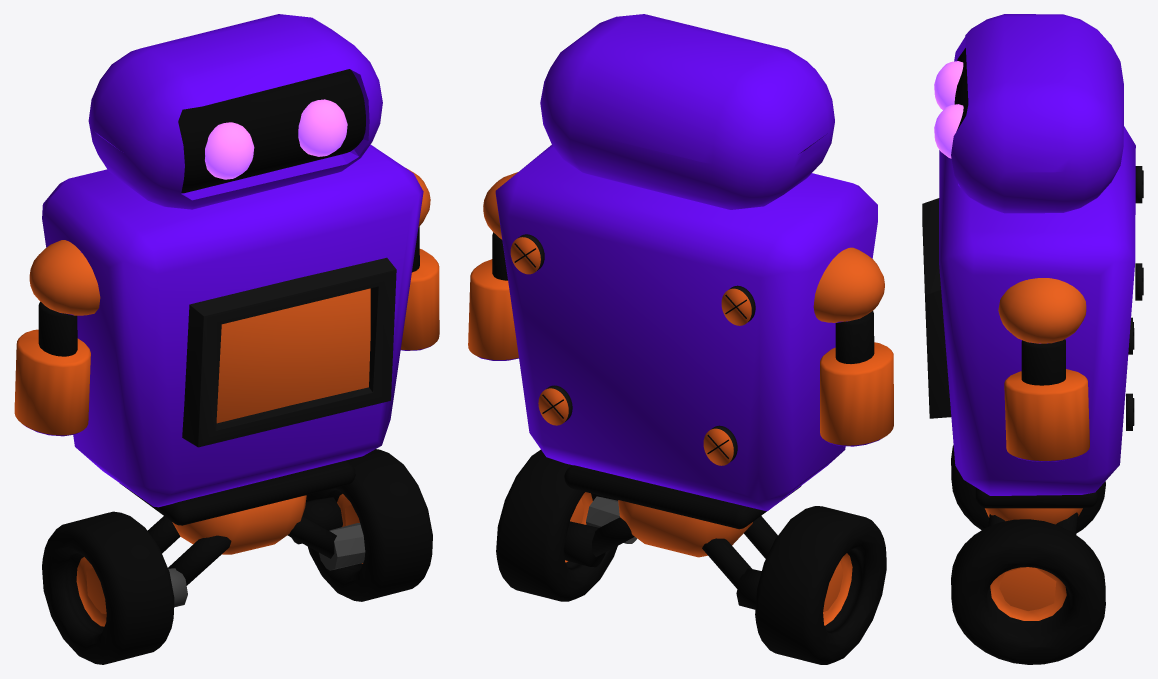
Rendered from robot1.fbx.
The picture shows the model from 3 angles, left to right: view 1: azimuth 30°, elevation 25°; view 2: azimuth 150°, elevation 25°; view 3: azimuth 270°, elevation 25°; orthographic projection. The views are drawn at different scales.
Visible parts, largest first — view 1: Cube, Cube.006, Cube.003, Cylinder.010, Cylinder.002, Cylinder.003, Cylinder, Cube.002, Cube.005, Cylinder.007, Sphere.001, Sphere.002 (+2 smaller); view 2: Cube, Cube.003, Cylinder.002, Cylinder.010, Cylinder.003, Cube.002, Cube.005, Cylinder.007, Cylinder.005, Cylinder.011, Cylinder.012, Cylinder.009 (+3 smaller); view 3: Cube, Cube.003, Cylinder.003, Cylinder.002, Cube.006, Cube.002, Cylinder.010, Cube.005, Sphere.002, Sphere.001, Cylinder, Cylinder.007.
Part boxes in pixels (x1,y1,x2,y2): Cube: (42,144,423,507); Cube.006: (182,257,396,447); Cube.003: (88,14,382,209); Cylinder.010: (42,511,174,664); Cylinder.002: (14,168,439,436); Cylinder.003: (306,449,432,601); Cylinder: (178,69,365,193); Cube.002: (119,460,355,525); Cube.005: (172,495,306,554); Cylinder.007: (147,516,336,585); Sphere.001: (205,122,254,179); Sphere.002: (298,99,347,156); Cube: (495,145,877,511); Cube.003: (540,14,834,209); Cylinder.002: (468,172,893,446); Cylinder.010: (755,506,886,664); Cylinder.003: (496,449,618,601); Cube.002: (564,465,800,529); Cube.005: (618,500,752,557); Cylinder.007: (592,516,777,588); Cylinder.005: (564,521,605,567); Cylinder.011: (538,385,572,425); Cylinder.012: (703,425,737,465); Cylinder.009: (510,234,544,274); Cube: (939,126,1135,495); Cube.003: (951,14,1123,213); Cylinder.003: (951,519,1105,664); Cylinder.002: (998,278,1089,461); Cube.006: (922,198,951,418); Cube.002: (975,487,1097,508); Cylinder.010: (951,445,1105,533); Cube.005: (985,508,1082,524); Sphere.002: (934,104,963,158); Sphere.001: (934,61,963,109); Cylinder: (954,48,968,131); Cylinder.007: (988,512,1078,534).
Bounding box in the file's own units: 290 × 389 × 143.
